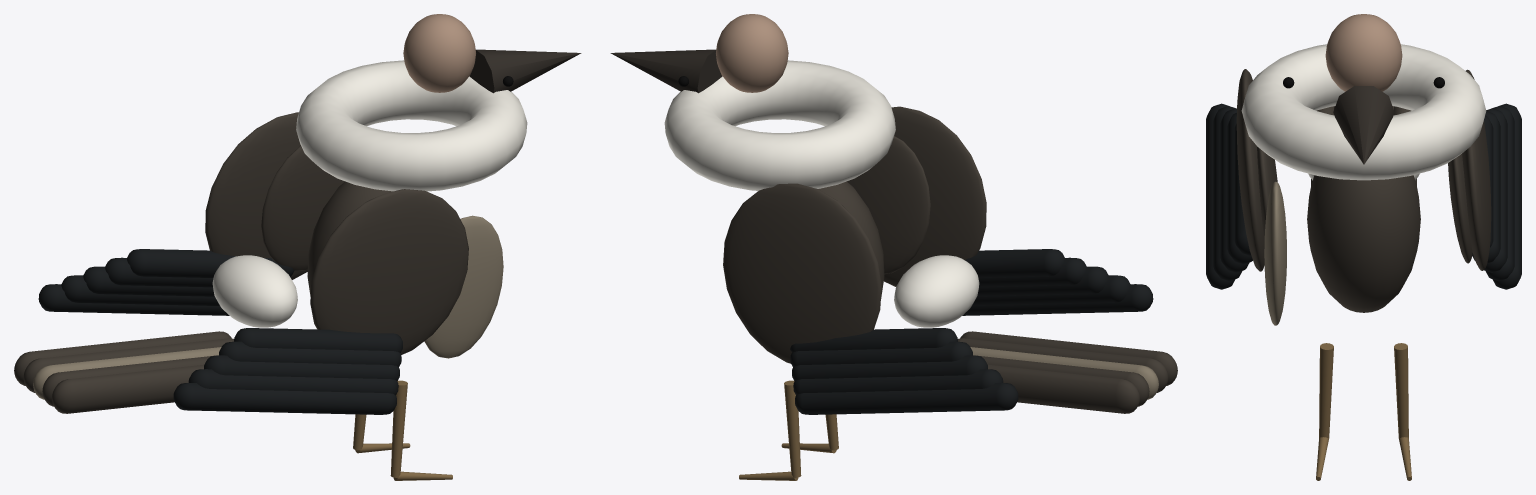
The model's file is white-rumped-vulture-type.glb.
3 renders of one model, left to right at view 1: azimuth 30°, elevation 25°; view 2: azimuth 150°, elevation 25°; view 3: azimuth 270°, elevation 25°, orthographic. The views are drawn at different scales.
Parts seen in each view (by area): view 1: white-neck-ruff, broad-folded-wing-1, broad-folded-wing--1, folded-wing--1, chest, primary-feather-1-4, white-rump-field, tail-feather-5, head, primary-feather-1-0, primary-feather-1-3, primary-feather-1-2 (+13 smaller); view 2: white-neck-ruff, broad-folded-wing--1, broad-folded-wing-1, folded-wing-1, primary-feather--1-4, white-rump-field, tail-feather-1, head, primary-feather--1-3, primary-feather--1-2, slender-beak, primary-feather--1-1 (+12 smaller); view 3: white-neck-ruff, body, head, slender-beak, broad-folded-wing-1, broad-folded-wing--1, chest, primary-feather--1-4, primary-feather-1-4, primary-feather--1-3, primary-feather-1-3, folded-wing--1 (+11 smaller).
Part boxes in pixels (x1=…): white-neck-ruff: x1=296, y1=60, x2=527, y2=191; broad-folded-wing-1: x1=310, y1=189, x2=468, y2=354; broad-folded-wing--1: x1=205, y1=112, x2=307, y2=279; folded-wing--1: x1=261, y1=146, x2=344, y2=270; chest: x1=424, y1=215, x2=503, y2=358; primary-feather-1-4: x1=173, y1=383, x2=396, y2=414; white-rump-field: x1=212, y1=255, x2=297, y2=327; tail-feather-5: x1=52, y1=364, x2=203, y2=413; head: x1=403, y1=14, x2=475, y2=92; primary-feather-1-0: x1=234, y1=328, x2=402, y2=352; primary-feather-1-3: x1=188, y1=369, x2=398, y2=395; primary-feather-1-2: x1=204, y1=355, x2=399, y2=381; white-neck-ruff: x1=664, y1=60, x2=895, y2=190; broad-folded-wing--1: x1=723, y1=183, x2=881, y2=363; broad-folded-wing-1: x1=884, y1=106, x2=986, y2=286; folded-wing-1: x1=847, y1=136, x2=930, y2=274; primary-feather--1-4: x1=795, y1=383, x2=1018, y2=414; white-rump-field: x1=894, y1=255, x2=979, y2=327; tail-feather-1: x1=988, y1=364, x2=1139, y2=413; head: x1=716, y1=14, x2=788, y2=92; primary-feather--1-3: x1=793, y1=369, x2=1003, y2=395; primary-feather--1-2: x1=792, y1=355, x2=987, y2=381; slender-beak: x1=610, y1=49, x2=722, y2=93; primary-feather--1-1: x1=790, y1=341, x2=972, y2=366; white-neck-ruff: x1=1241, y1=44, x2=1486, y2=180; body: x1=1307, y1=175, x2=1420, y2=312; head: x1=1325, y1=14, x2=1402, y2=91; slender-beak: x1=1333, y1=86, x2=1394, y2=164; broad-folded-wing-1: x1=1236, y1=69, x2=1264, y2=271; broad-folded-wing--1: x1=1462, y1=69, x2=1491, y2=270; chest: x1=1264, y1=181, x2=1286, y2=325; primary-feather--1-4: x1=1492, y1=103, x2=1521, y2=289; primary-feather-1-4: x1=1206, y1=103, x2=1235, y2=289; primary-feather--1-3: x1=1485, y1=106, x2=1514, y2=281; primary-feather-1-3: x1=1213, y1=106, x2=1242, y2=281; folded-wing--1: x1=1448, y1=153, x2=1472, y2=263.
Bounding box in the file's own units: 2.34 × 1.82 × 1.11.
